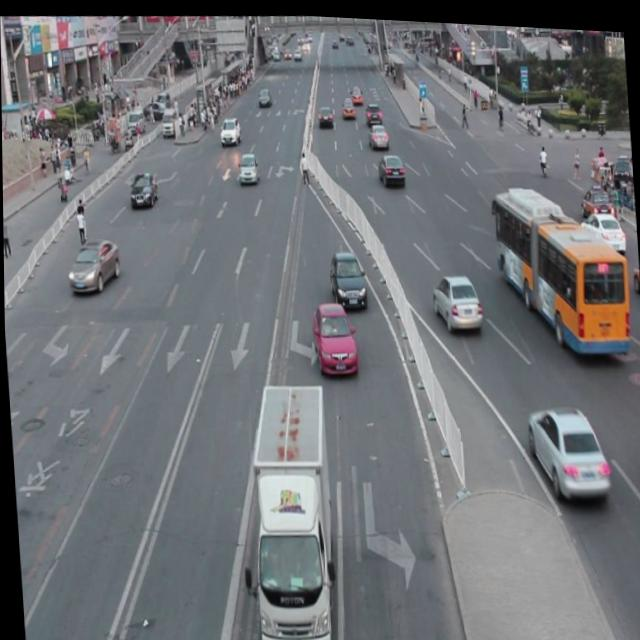bus: (241, 376, 339, 640)
car: (525, 395, 609, 494), (310, 295, 357, 373), (66, 235, 121, 295), (430, 267, 481, 329), (328, 245, 366, 308), (578, 202, 625, 248), (578, 177, 614, 218), (129, 169, 158, 207), (629, 245, 640, 302)
van: (493, 179, 630, 353)
